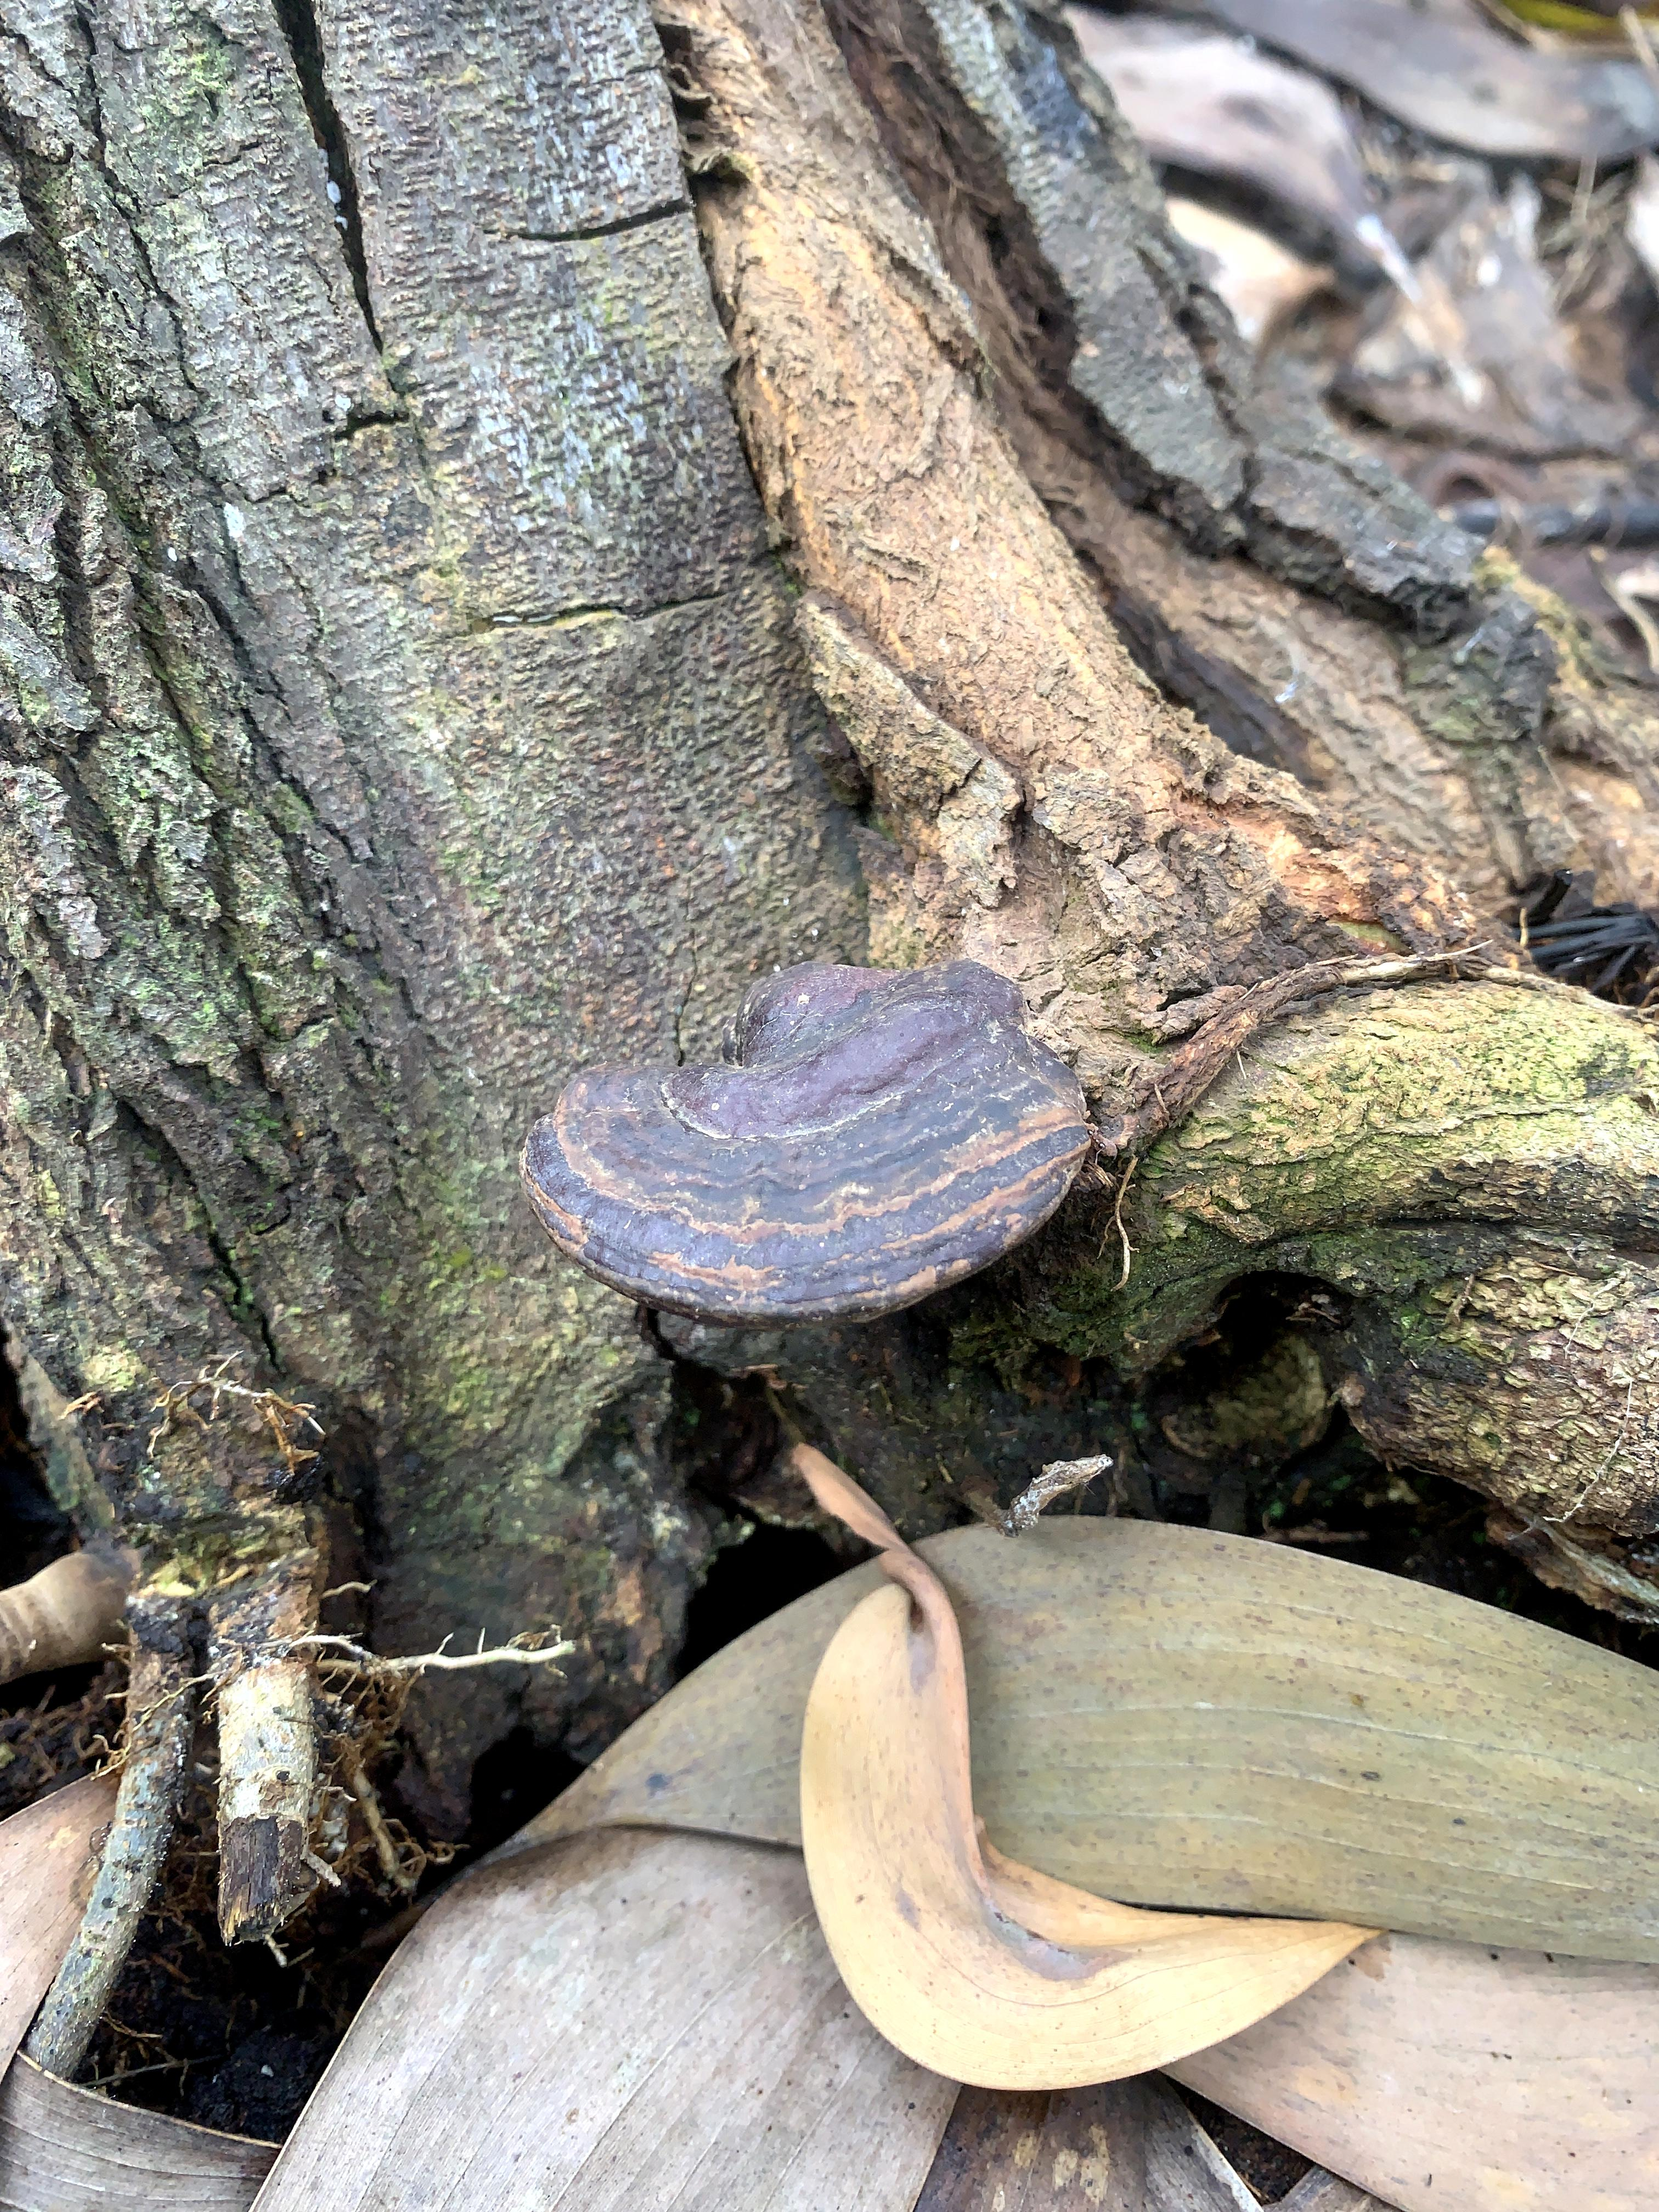Ganoderma - Fruit Body: (518, 956, 1105, 1308)
